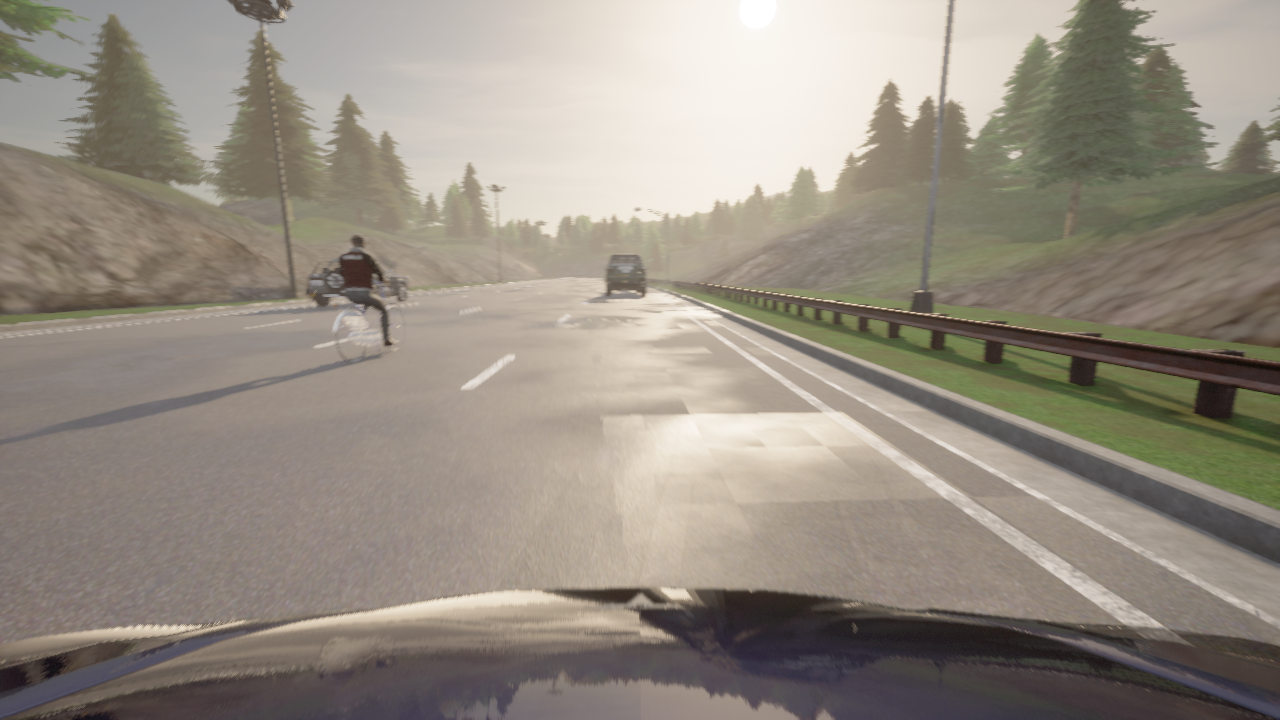cyclist: (0, 588, 1279, 719), (333, 281, 405, 363), (304, 258, 408, 306), (604, 254, 647, 297), (613, 289, 638, 293)
